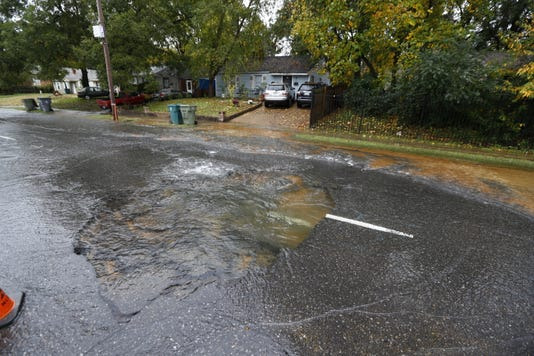roadCrash: (75, 226, 211, 298)
